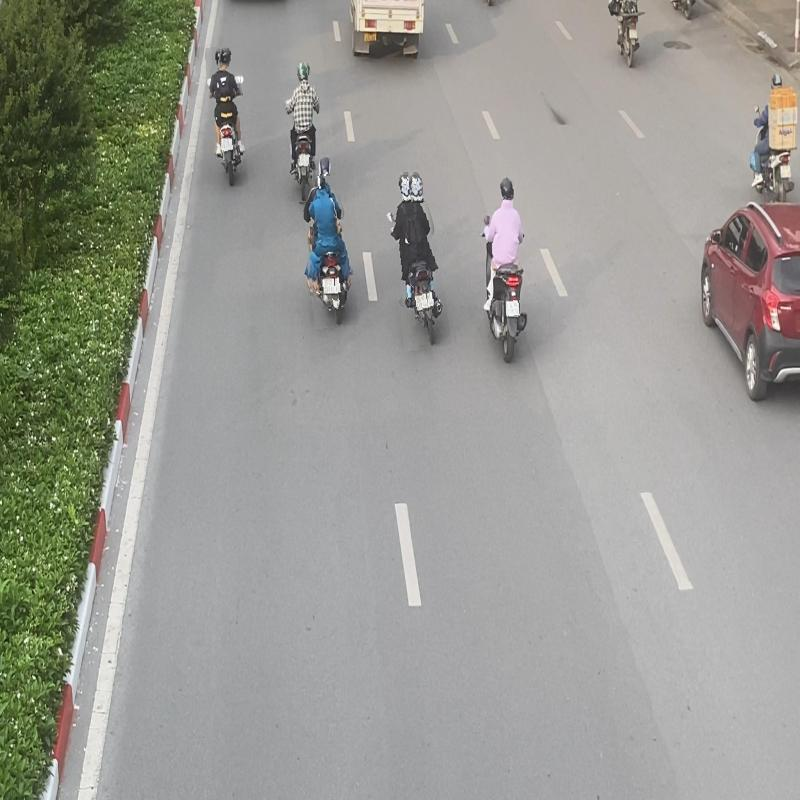helmet: (409, 172, 425, 204), (499, 178, 514, 200), (218, 46, 232, 69), (296, 60, 309, 83), (318, 156, 332, 176)
licenseplate: (506, 300, 520, 318), (415, 294, 428, 312), (322, 277, 335, 295), (298, 152, 310, 167), (221, 138, 231, 150)
motorcyclist: (386, 170, 446, 350), (478, 177, 530, 365), (299, 157, 354, 328), (208, 46, 246, 188), (283, 59, 320, 202)
